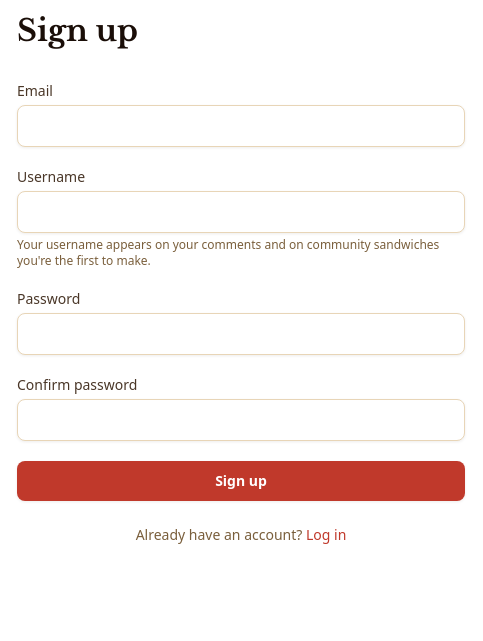
Scenario: SignupPage › shows error when passwords do not match
This screenshot has width=483, height=641.
In the field labelled "Email": {"x": 241, "y": 126} [17,105,465,147], type "test@example.com"
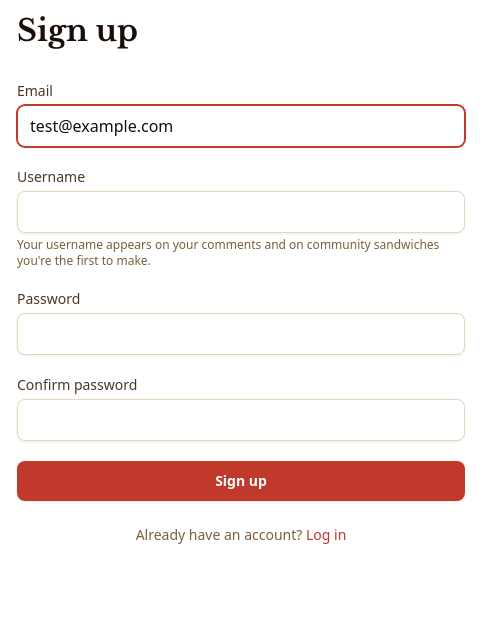
In the field labelled "Username": {"x": 241, "y": 212} [17,191,465,233], type "sandwich_fan"
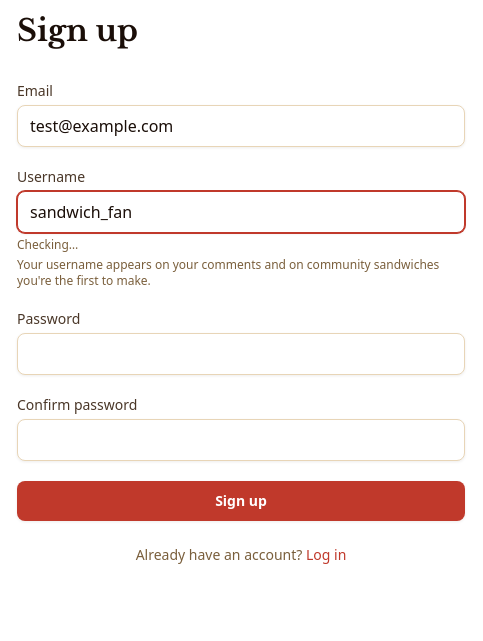
In the password field labelled "Password": {"x": 241, "y": 354} [17,333,465,375], type "password123"
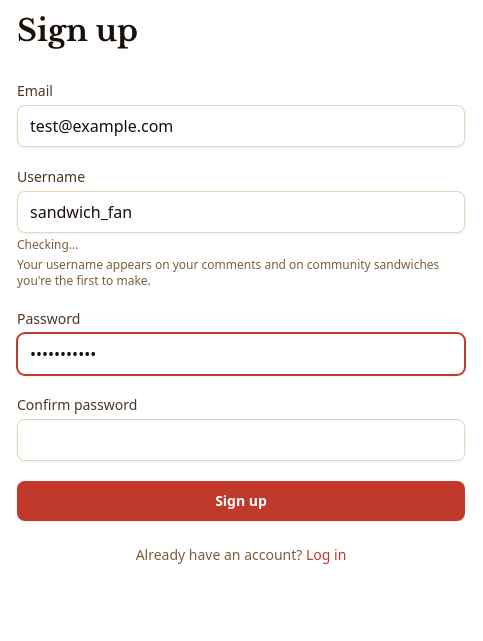
In the password field labelled "Confirm password": {"x": 241, "y": 440} [17,419,465,461], type "different"
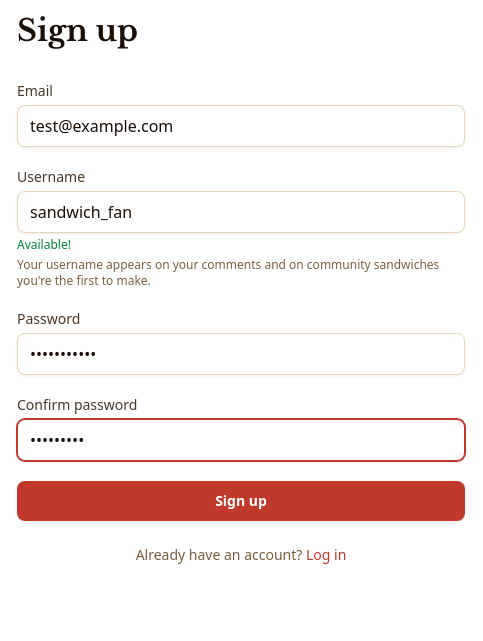
Check: the text "Available!" is shown, box [17,236,71,253]
Click the button "Sign up": {"x": 241, "y": 501} [17,481,465,521]
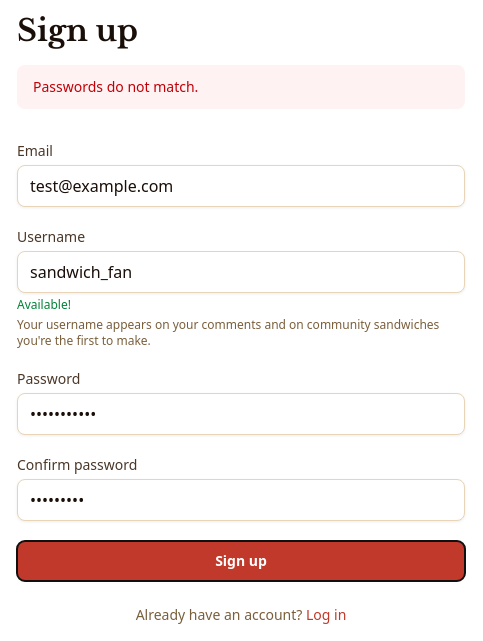
Check: the message shows "Passwords do not match", box [33,77,198,96]
